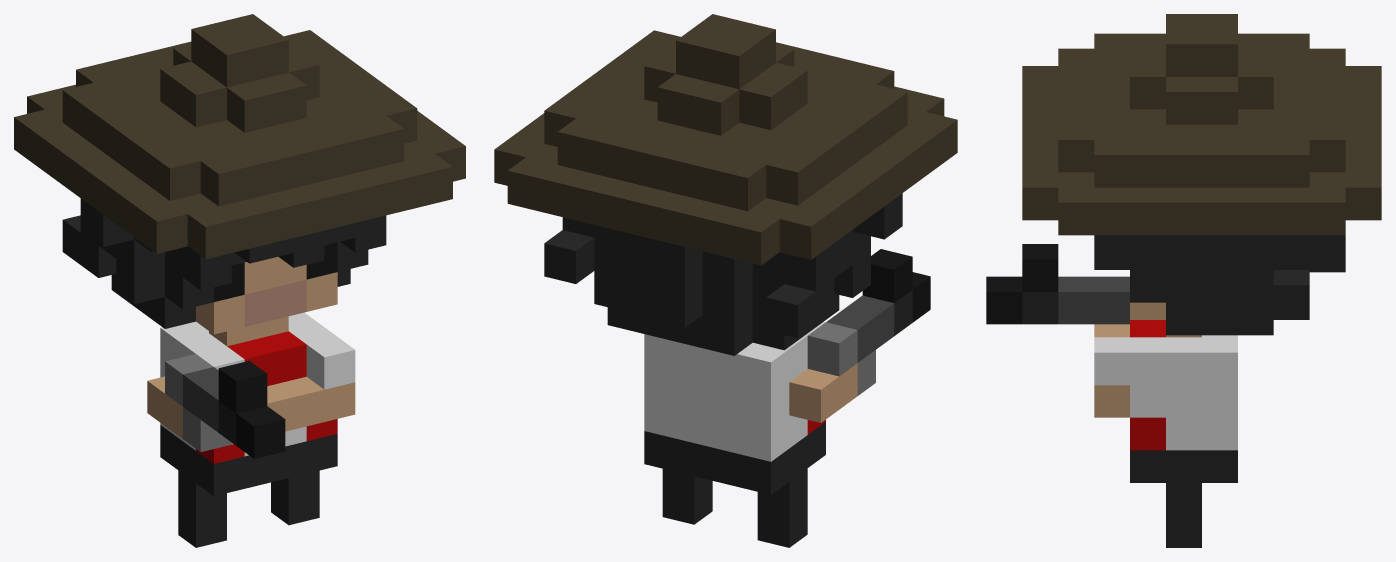
File: western1.obj
3 views of the same model, side by side, from view 1: azimuth 30°, elevation 25°; view 2: azimuth 150°, elevation 25°; view 3: azimuth 270°, elevation 25° (orthographic). The views are drawn at different scales.
Size of the model in its own units: 1 by 1.5 by 1.1.
1 material, 1 textured.
